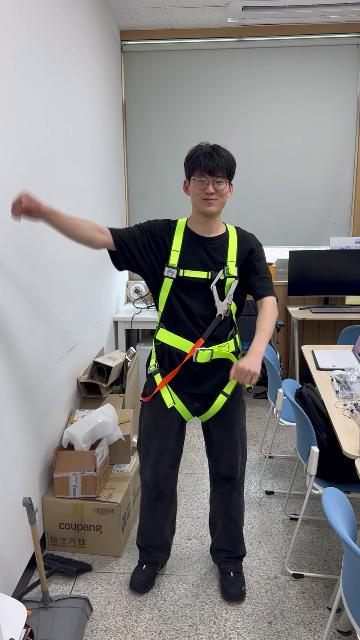helmet_not_worn: (181, 138, 238, 190)
shoe_worn: (130, 559, 167, 594), (218, 566, 246, 602)
vest_worn: (144, 223, 247, 417)
